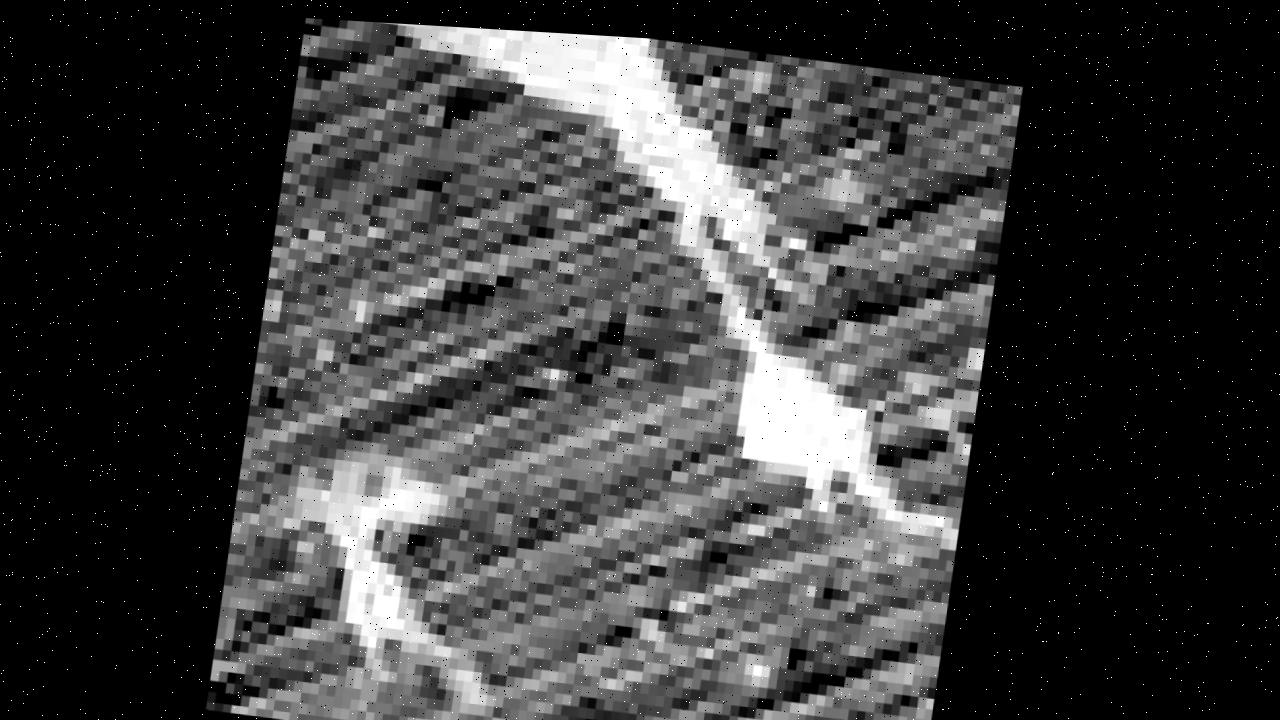drinks Stains: (214, 12, 1024, 720)
